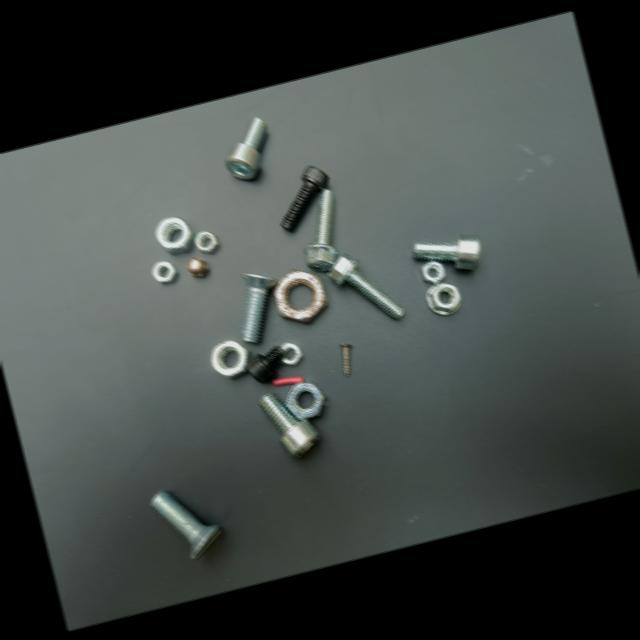bolt: (328, 252, 404, 318), (150, 489, 221, 559), (259, 391, 320, 457), (281, 164, 329, 231), (304, 188, 339, 270), (240, 272, 279, 342), (224, 116, 267, 179), (412, 234, 481, 269), (246, 345, 286, 382), (339, 343, 352, 375)
nuts: (274, 269, 327, 321), (156, 216, 196, 254), (285, 381, 325, 419), (211, 340, 250, 377), (426, 282, 461, 314), (194, 230, 219, 253), (152, 261, 178, 283), (421, 260, 445, 283), (186, 257, 210, 277), (281, 342, 302, 364)
